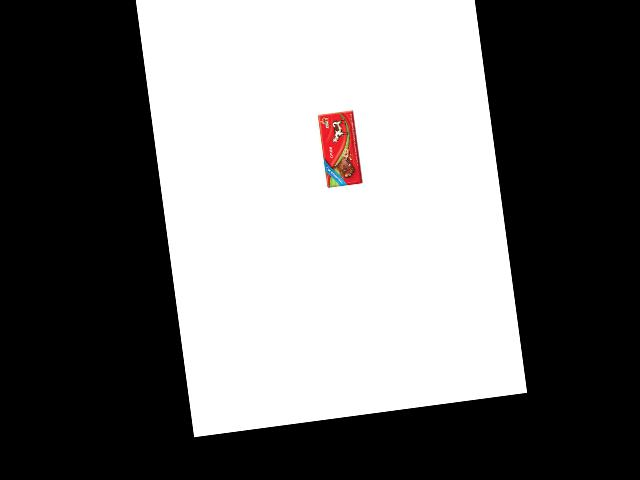chocolate: (316, 107, 361, 187)
